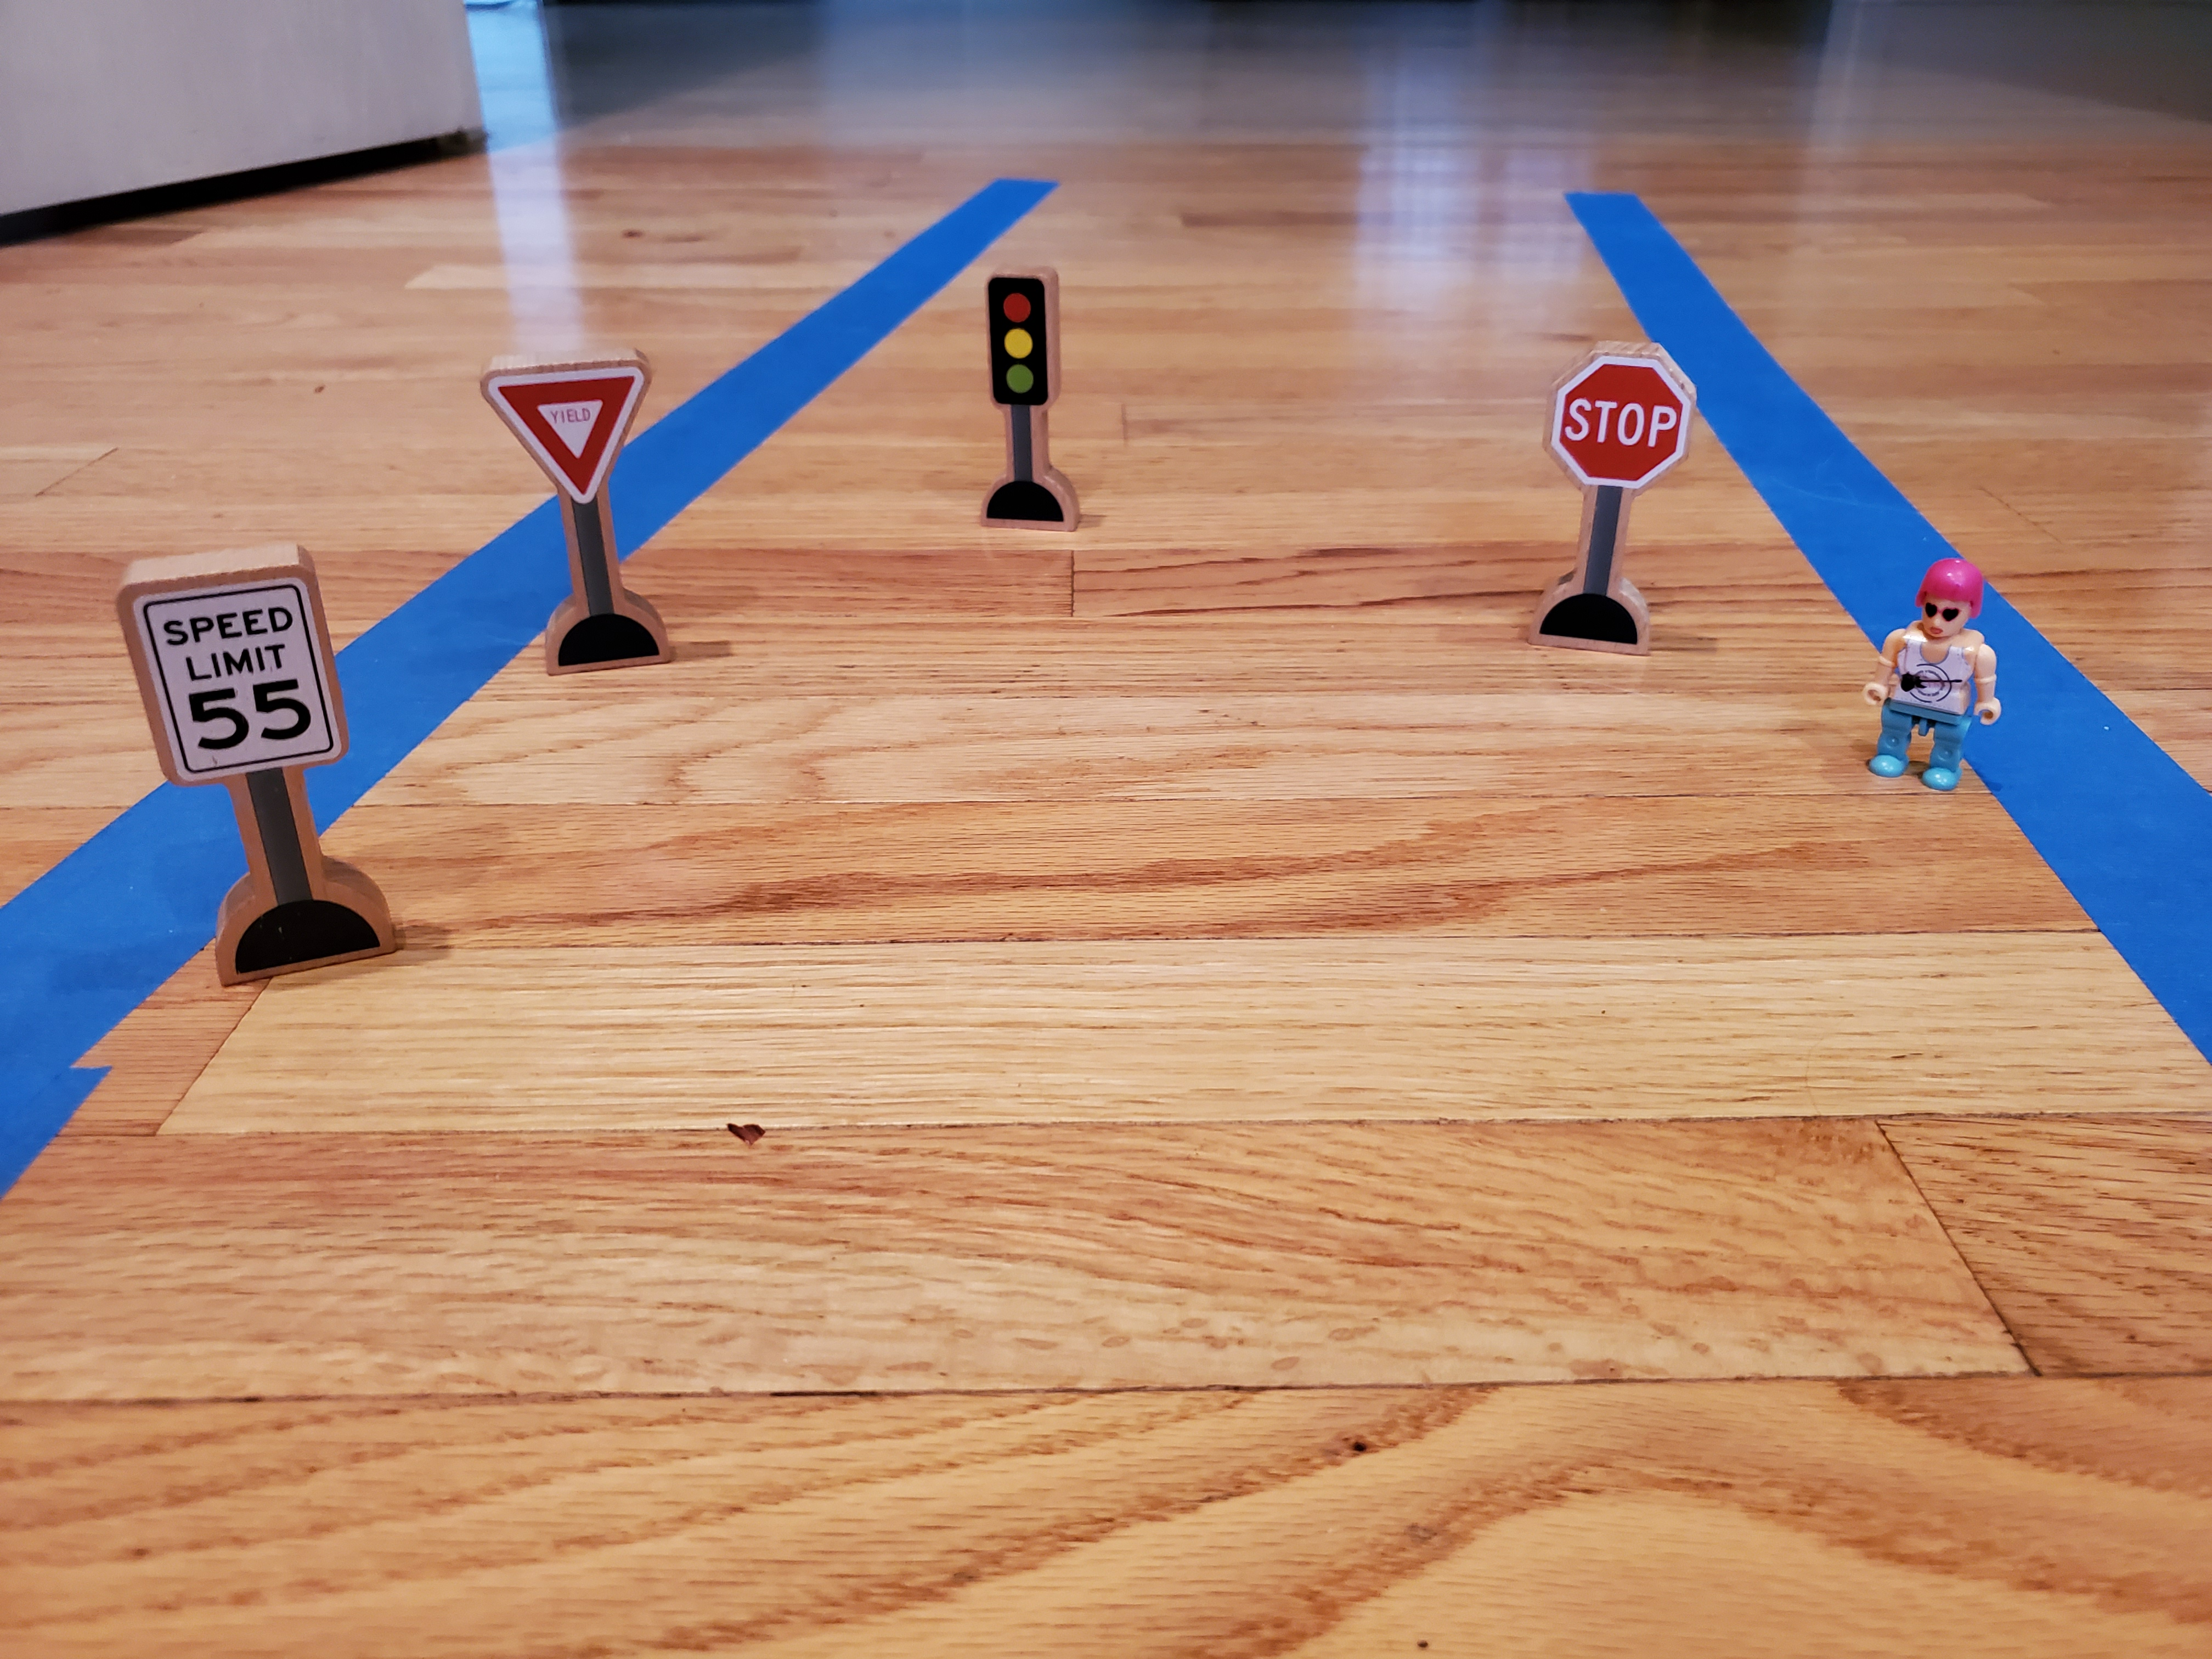Red Traffic Light: (975, 261, 1071, 417)
Speed Limit 55: (122, 552, 349, 795)
Stop Sign: (1545, 332, 1702, 503)
Yield Sign: (477, 335, 661, 505)
person: (1864, 550, 2002, 795)
